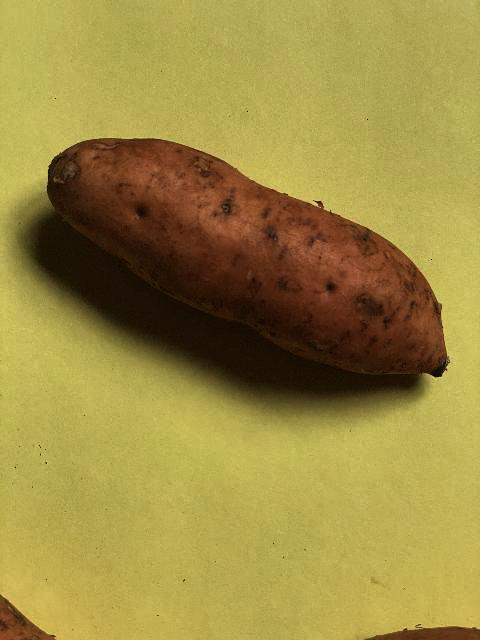sweetpotato: (44, 134, 448, 380)
